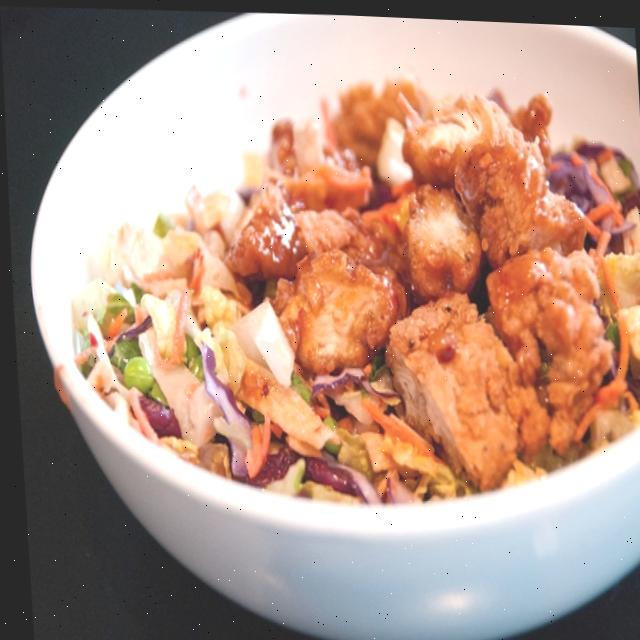鸡肉料理 含炸鸡: (24, 13, 640, 580)
